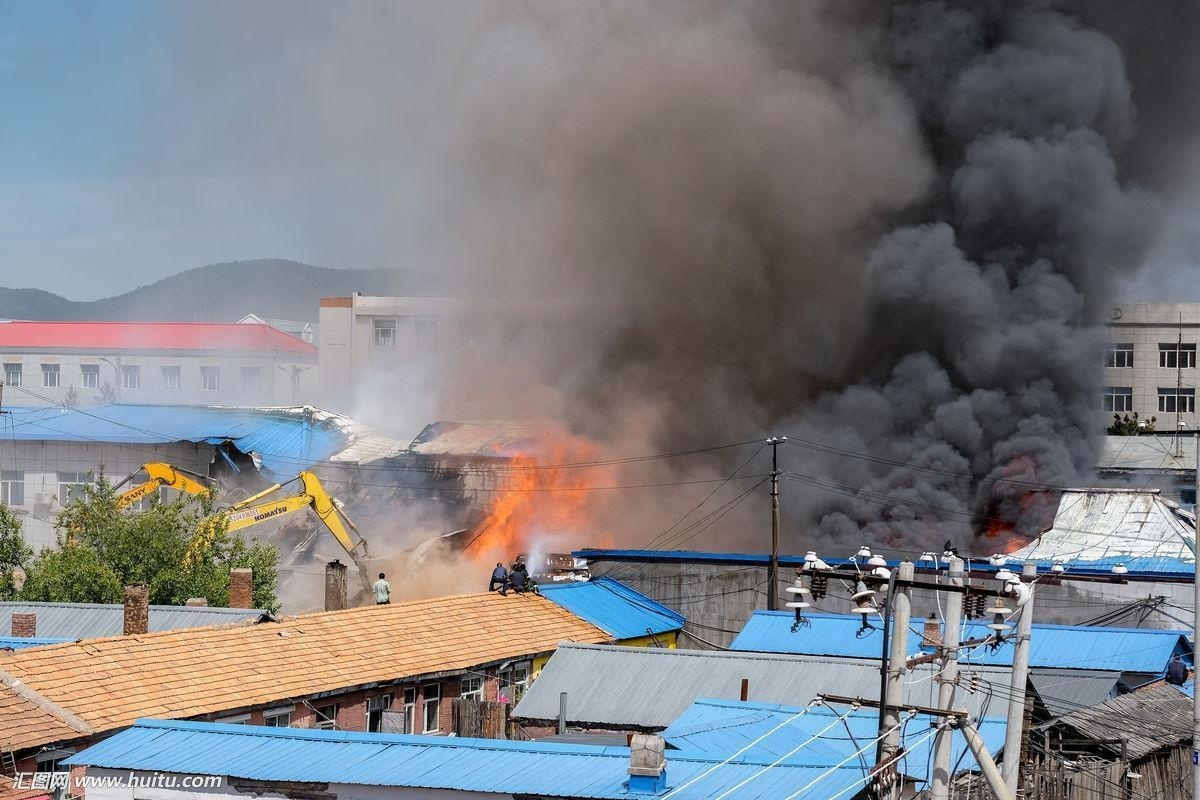fire: (460, 426, 616, 571)
